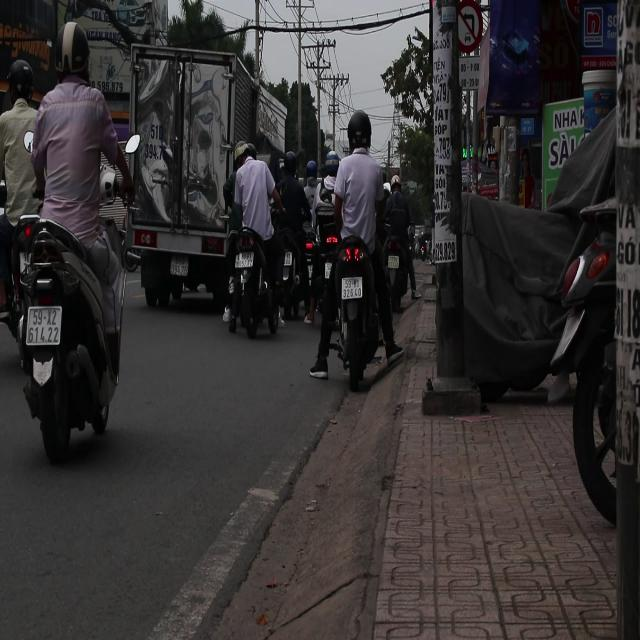motorbike: (2, 214, 124, 459), (318, 225, 390, 393), (224, 228, 277, 341)
truck: (123, 29, 296, 315)
